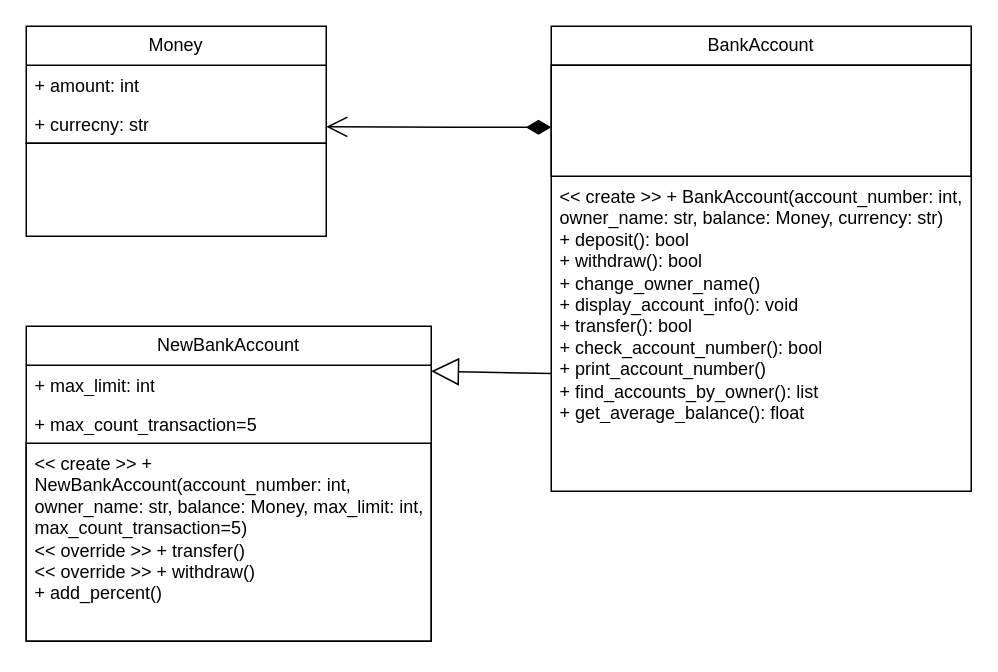
This 998x672 diagram has some shape labels left out. Each missing label, with the centre of its shape:
"+ account_number: int + owner_name: str + balance: Money + currency: str" goes at (760,120).
"<< create >> + Money(amount: int, currency: str)" goes at (175,189).
